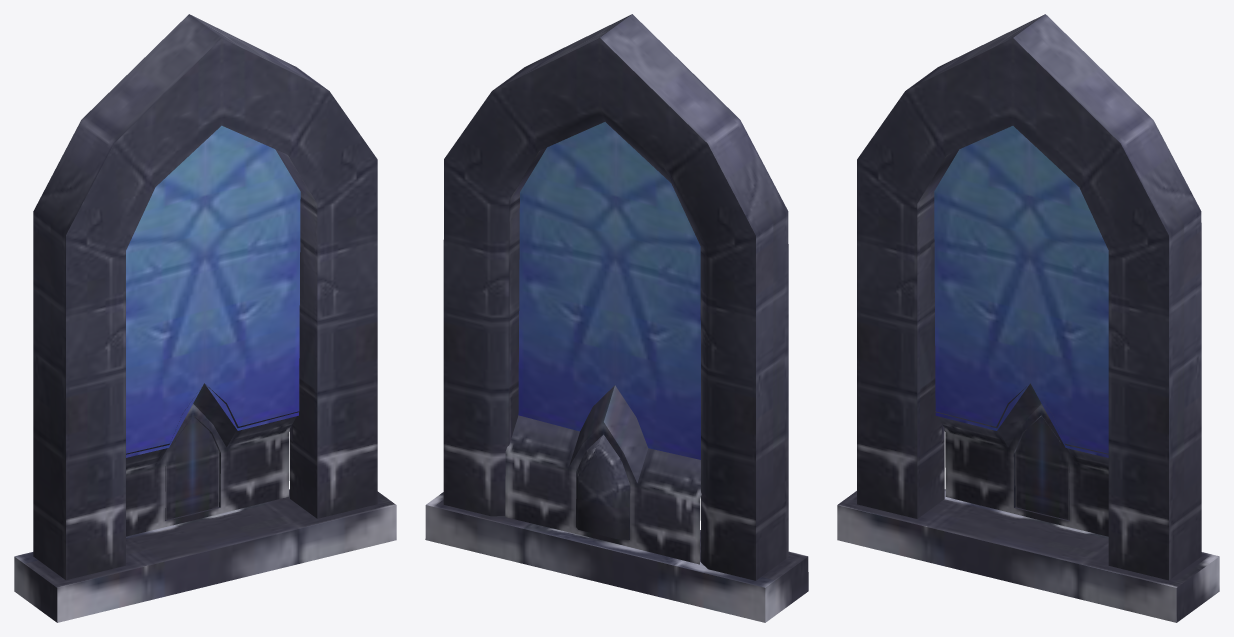
File: pvp_chuan01.FBX
The picture shows the model from 3 angles, left to right: view 1: azimuth 30°, elevation 25°; view 2: azimuth 150°, elevation 25°; view 3: azimuth 330°, elevation 25°; orthographic projection.
Parts seen in each view (by area): view 1: pvp_chuan01; view 2: pvp_chuan01; view 3: pvp_chuan01.
Boxes of the visible parts, x1,y1,x2,y2 form: pvp_chuan01: (14, 14, 396, 622); pvp_chuan01: (425, 14, 808, 622); pvp_chuan01: (837, 14, 1219, 622).
Size of the model in its own units: 172 by 37.93 by 262.
